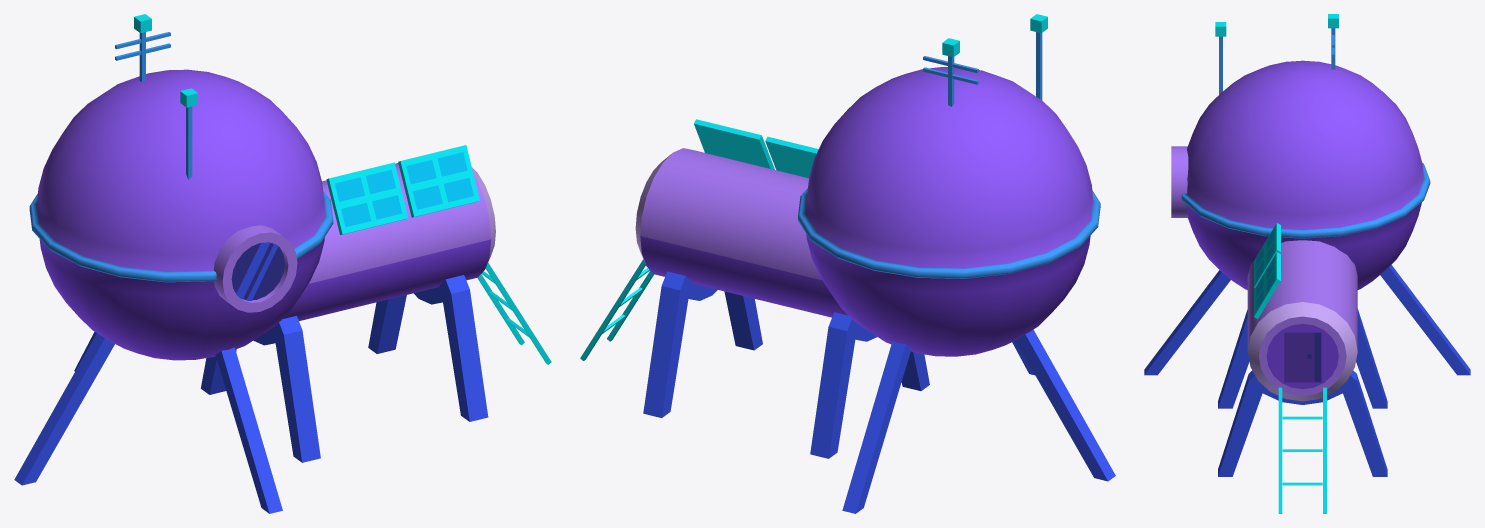
File: Building_014.fbx
3 renders of one model, left to right at view 1: azimuth 30°, elevation 25°; view 2: azimuth 150°, elevation 25°; view 3: azimuth 270°, elevation 25°, orthographic. The views are drawn at different scales.
Parts seen in each view (by area): view 1: Building_014; view 2: Building_014; view 3: Building_014.
Boxes of the visible parts, <box> form: Building_014: <box>14,14,551,513</box>; Building_014: <box>580,14,1115,513</box>; Building_014: <box>1144,14,1470,513</box>.
Bounding box in the file's own units: 25.96 × 19.91 × 16.94.
